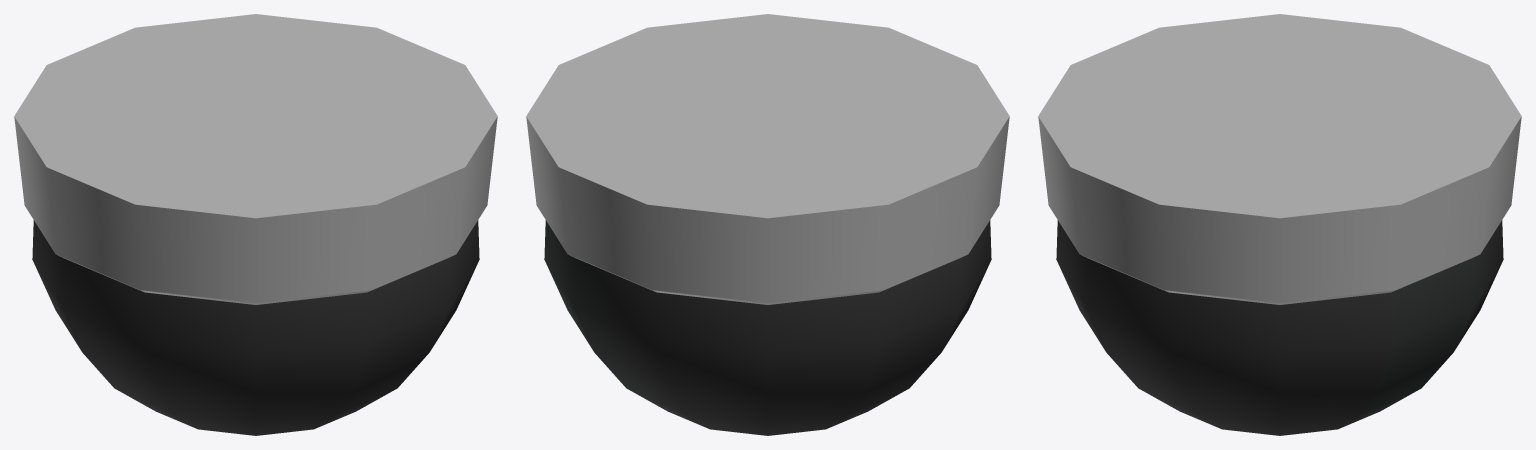
The picture shows the model from 3 angles, left to right: view 1: azimuth 30°, elevation 25°; view 2: azimuth 150°, elevation 25°; view 3: azimuth 270°, elevation 25°; orthographic projection.
Visible parts, largest first — view 1: Lo-Body_01; view 2: Lo-Body_01; view 3: Lo-Body_01.
Part boxes in pixels (<box>): Lo-Body_01: <box>14,14,497,435</box>; Lo-Body_01: <box>526,14,1009,435</box>; Lo-Body_01: <box>1038,14,1521,435</box>.
Bounding box in the file's own units: 0.1606 × 0.1096 × 0.1606.
Materials: 1 (1 with a texture image).
